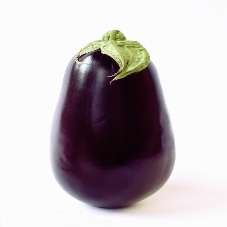eggplant: (50, 38, 178, 213)
